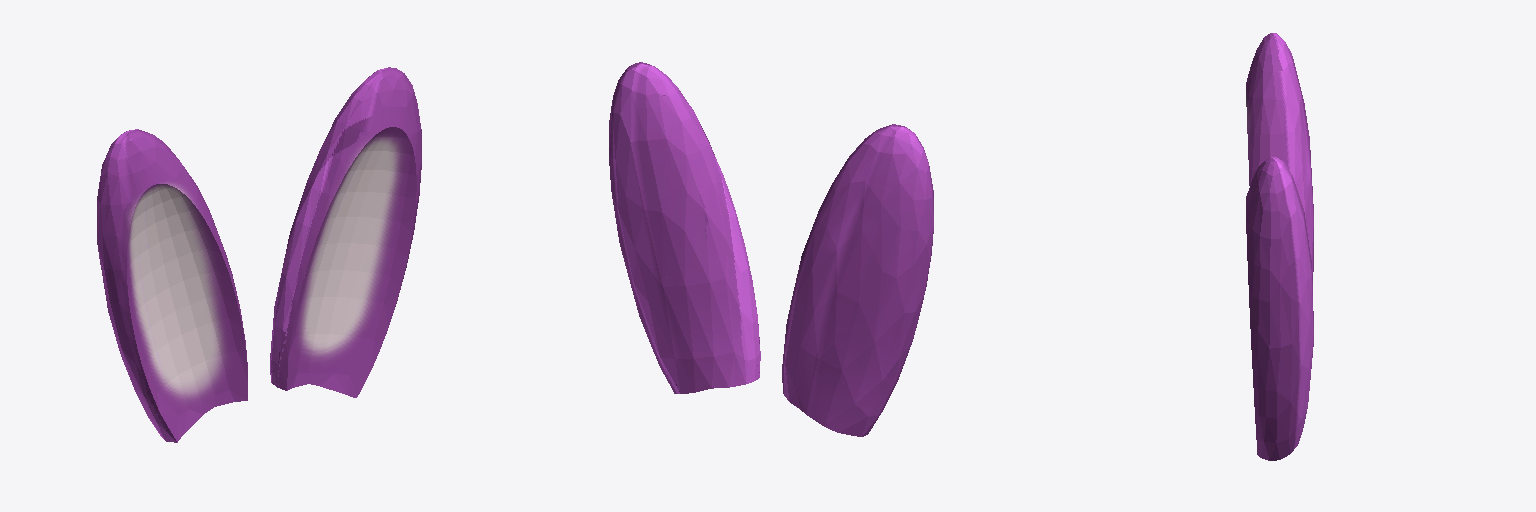
3 views of the same model, side by side, from view 1: azimuth 30°, elevation 25°; view 2: azimuth 150°, elevation 25°; view 3: azimuth 270°, elevation 25° (orthographic).
Parts seen in each view (by area): view 1: default.002; view 2: default.002; view 3: default.002.
Part boxes in pixels (x1,y1,x2,y2): default.002: (97, 67, 421, 442); default.002: (609, 62, 933, 436); default.002: (1246, 33, 1313, 460).
Size of the model in its own units: 0.2603 by 0.2471 by 0.0483.
Materials: 1 (1 with a texture image).